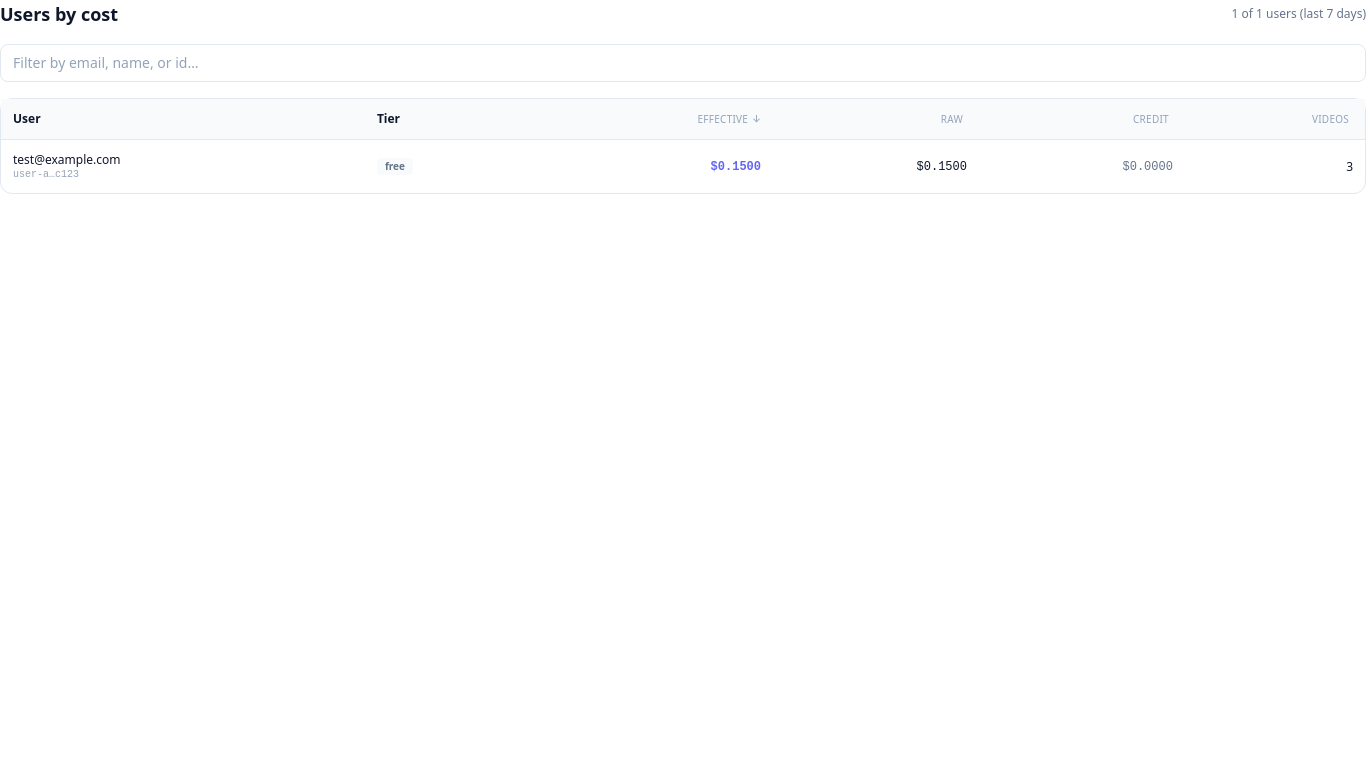
Test: User-360 drawer tabs › should show Adjustments tab with grant-credit form
Click the row "test@example.com user-a…c123 free $0.1500 $0.1500 $0.0000 3". click: (67, 160)
box: left=1, top=140, right=1365, bottom=193
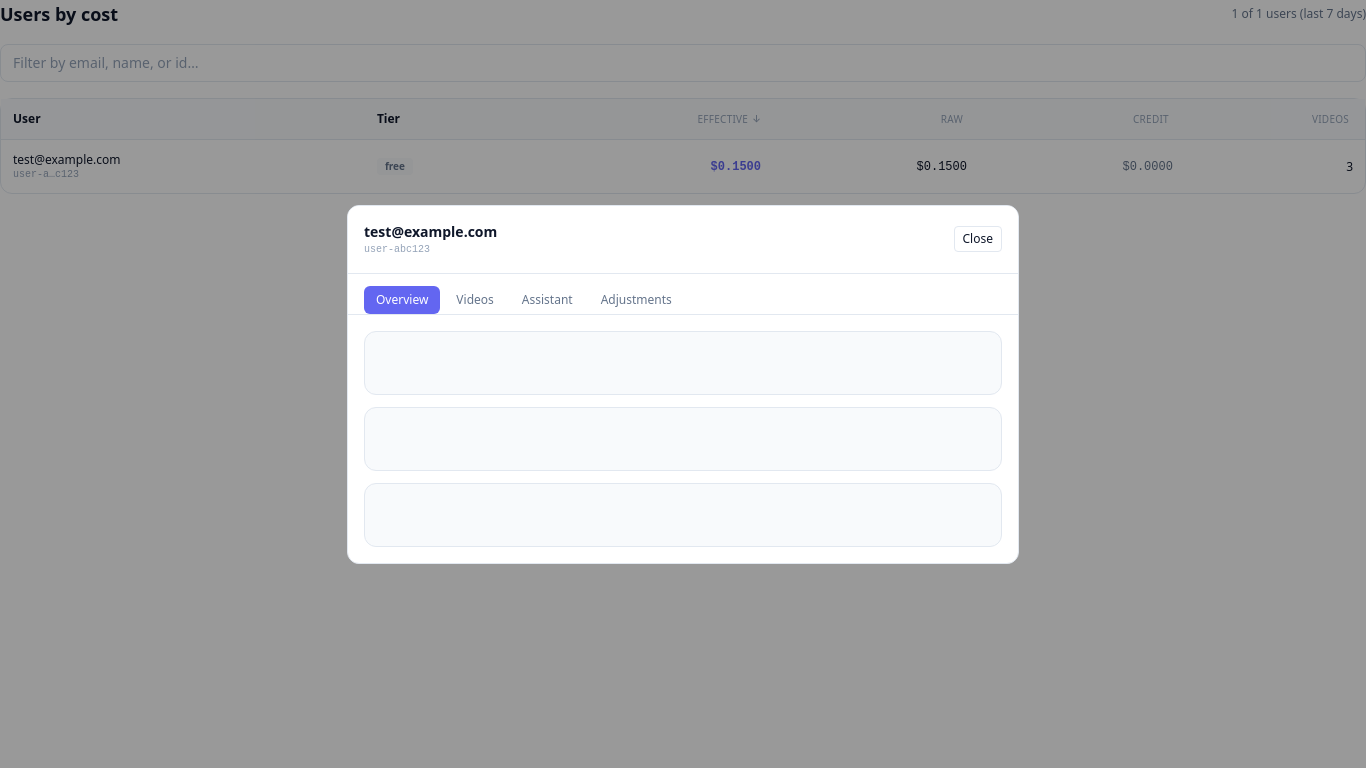
Check: the tab "Adjustments" is shown
Click the tab "Adjustments". click: (636, 300)
box: left=589, top=286, right=684, bottom=314
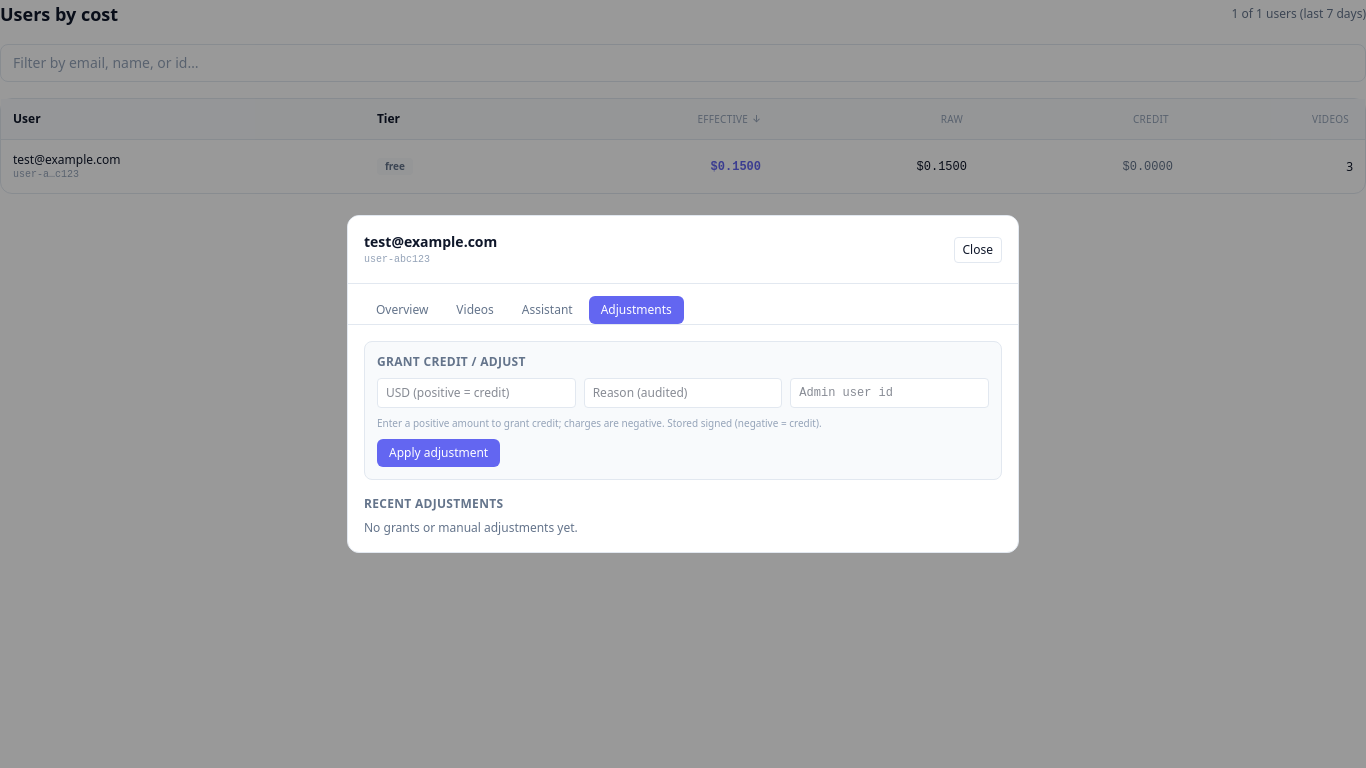
Check: the number field with test id "grant-credit-amount" is shown, box left=377, top=378, right=576, bottom=408
